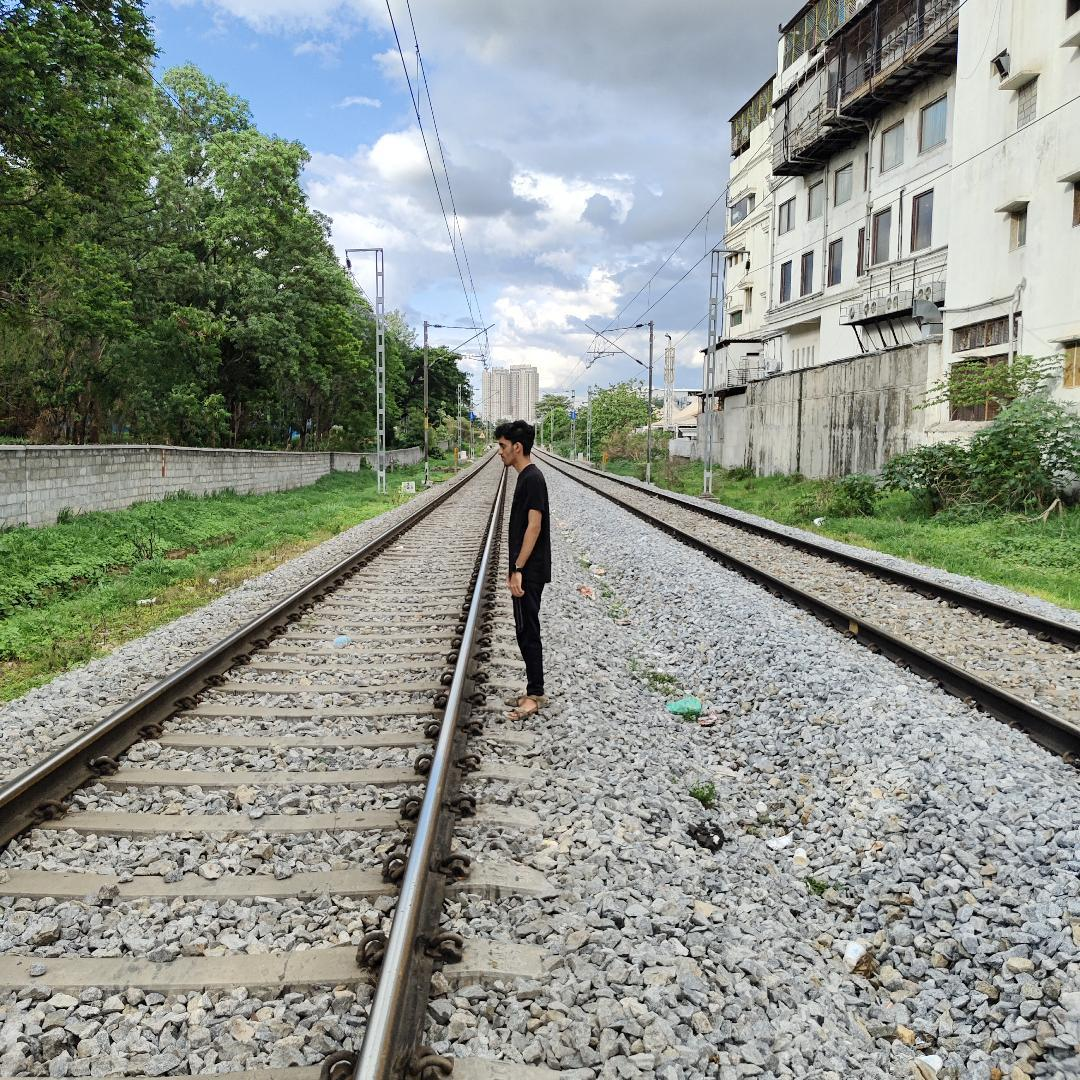standing: (481, 414, 571, 726)
